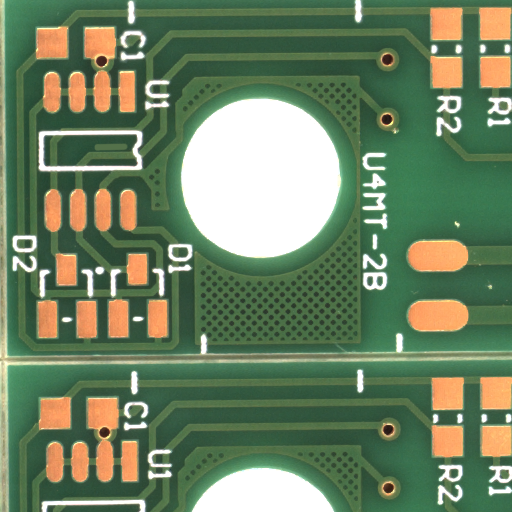Spurious_copper: (108, 146, 147, 155)
